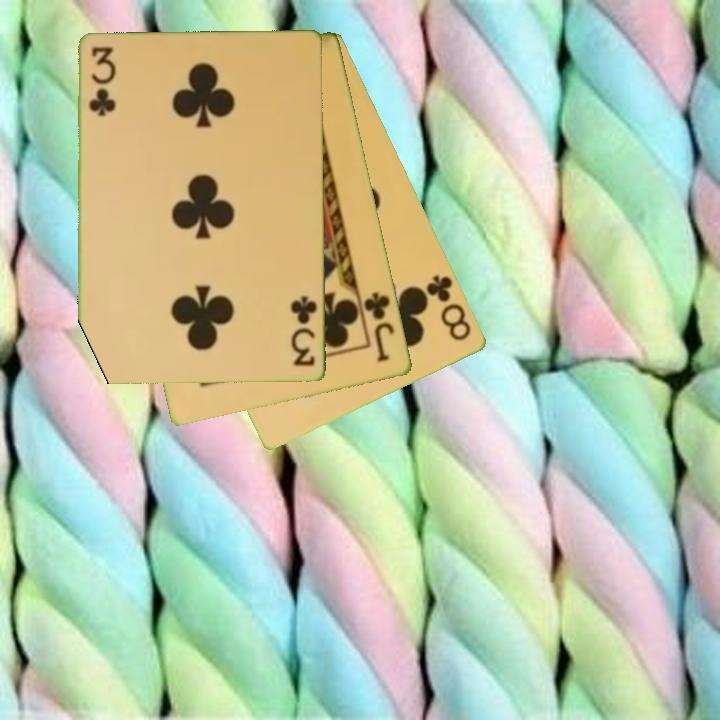3c: (288, 293, 320, 370), (85, 43, 114, 119)
8c: (423, 271, 475, 344)
Jc: (360, 288, 398, 365)
